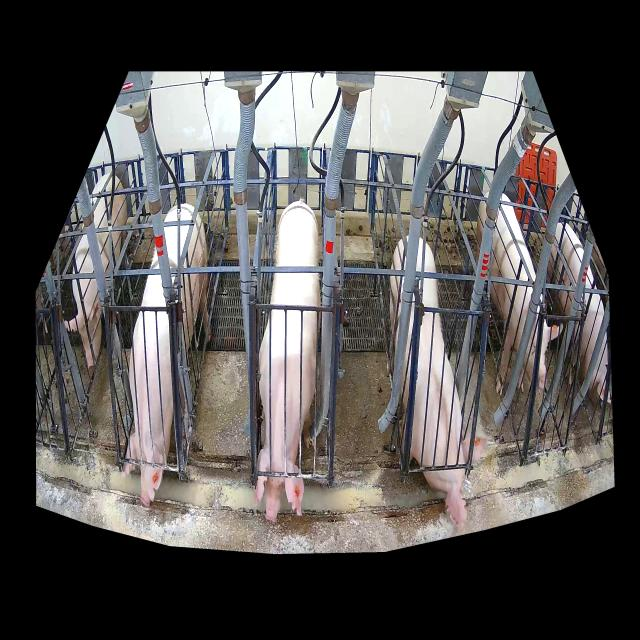pig: (388, 238, 487, 531), (123, 204, 212, 507), (254, 201, 321, 522), (476, 192, 561, 396), (64, 174, 127, 372), (548, 222, 612, 406)
